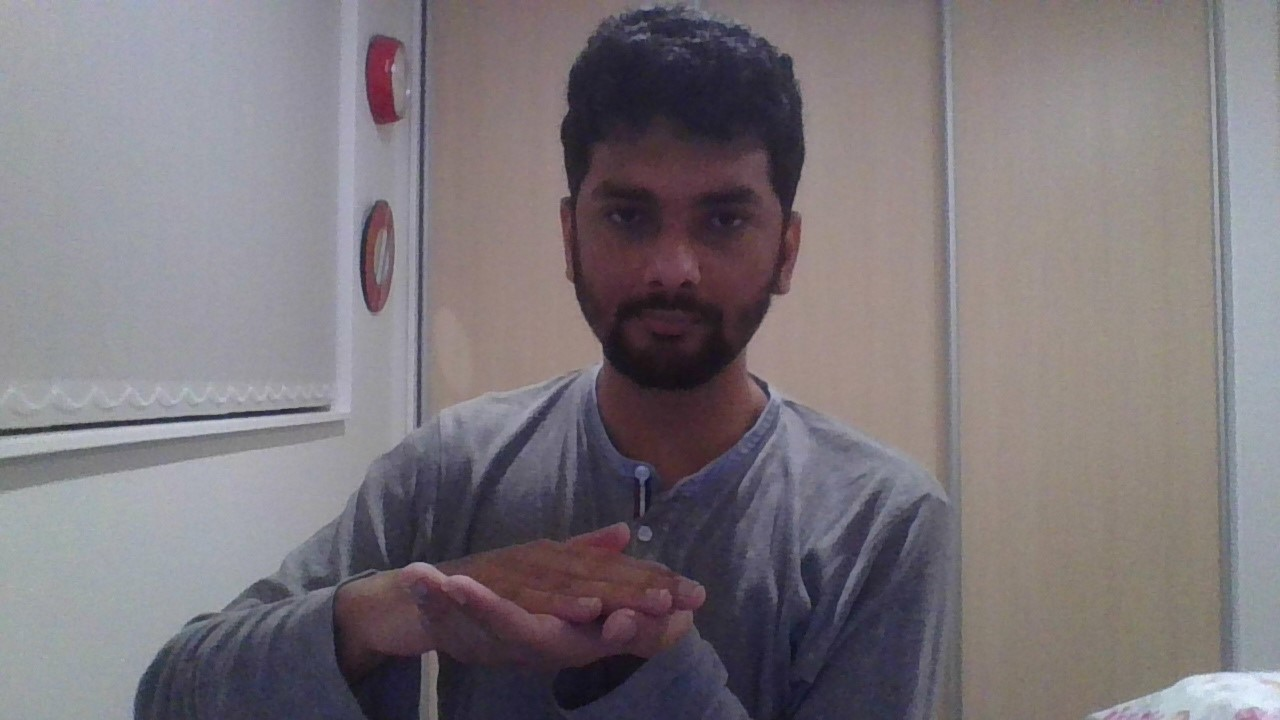clear: (362, 518, 705, 668)
